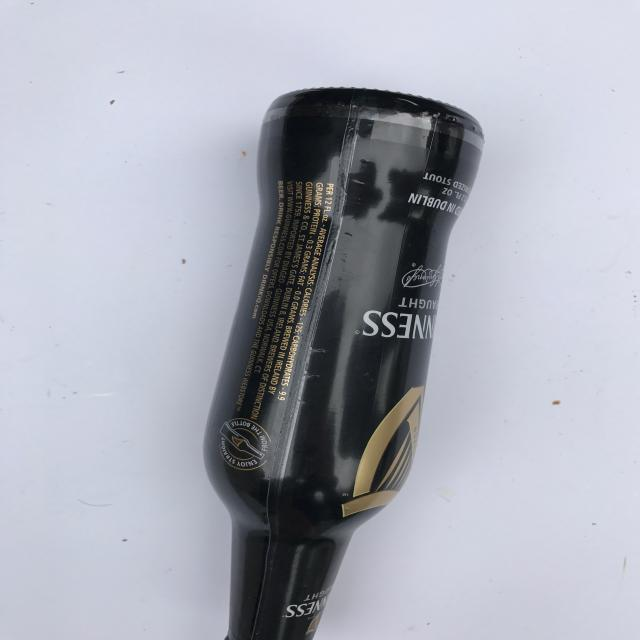glass: (201, 85, 485, 640)
